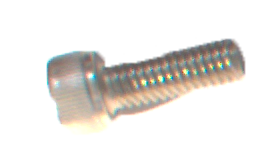M6-16mm: (44, 36, 251, 146)
